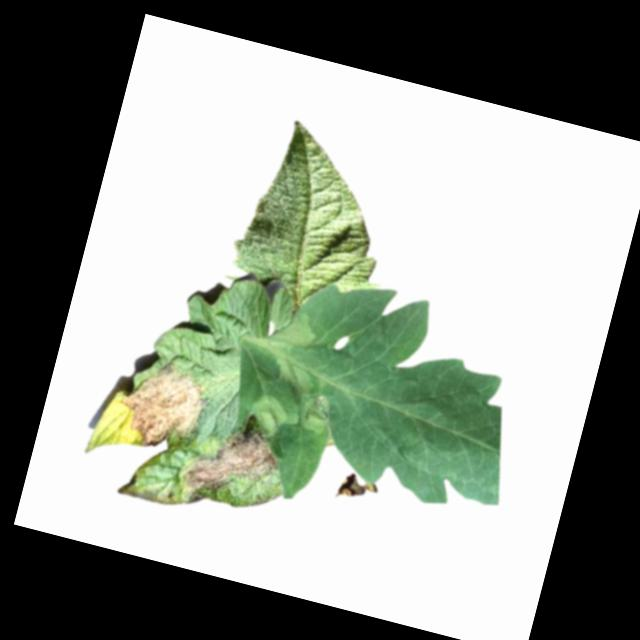Late_blight: (175, 402, 288, 510), (105, 353, 215, 463), (262, 303, 319, 358), (238, 387, 291, 442), (267, 348, 318, 391), (293, 389, 334, 436), (332, 469, 373, 509)
healthy: (221, 110, 416, 323)
